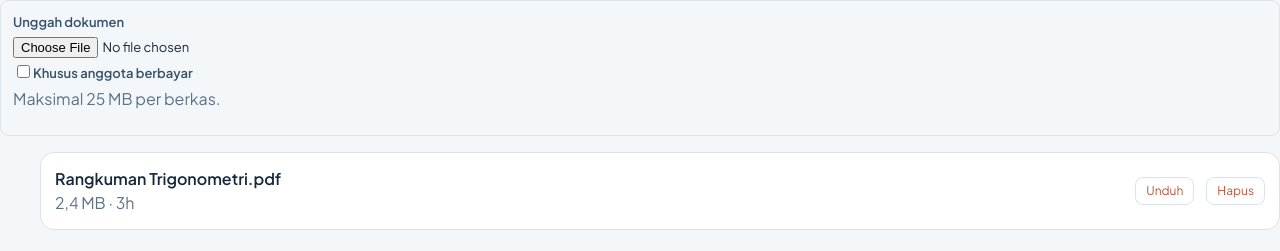
Scenario: DokumenTab › the owner deletes after confirming, and the row goes
Check: the text "Rangkuman Trigonometri.pdf" is shown, box [55,168,281,189]
Click the button "Hapus" at (1236, 191), box [1206,177,1265,205]
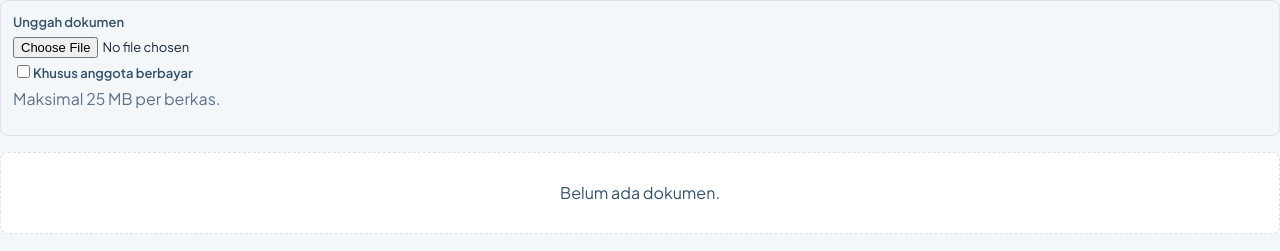
Check: the text "Rangkuman Trigonometri.pdf" is not shown
